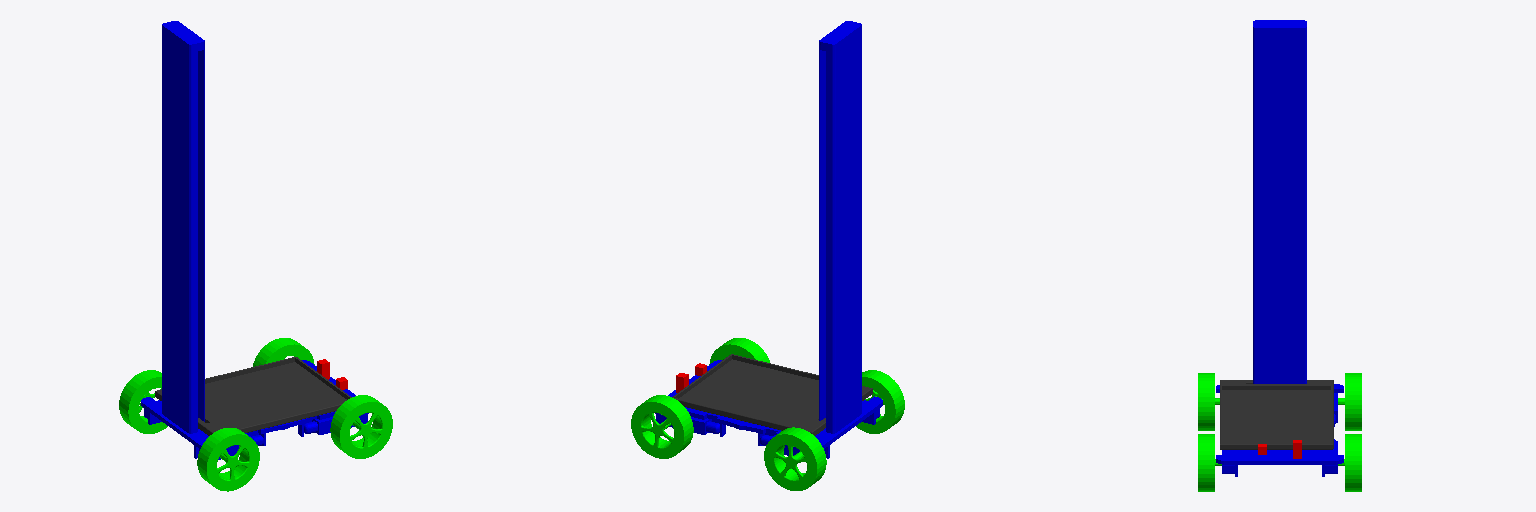
robot.urdf — autonomous_robot_3:
<?xml version="1.0" encoding="utf-8"?>

<robot
  name="autonomous_robot_3">
  
   <material name="red">
    <color rgba="1 0 0 1"/> 
  </material>
  <material name="green">
    <color rgba="0 1 0 1"/> 
  </material>
  <material name="blue">
    <color rgba="0 0 1 1"/> 
  </material>
  <material name="semi_transparent_yellow">
    <color rgba="1 1 0 0.5"/> 
  </material>
  
  <link
    name="base_link">
    <inertial>
      <origin
        xyz="-0.0626 0.00015231 0.15761"
        rpy="0 0 0" />
      <mass
        value="0.61968" />
      <inertia
        ixx="0.0079493"
        ixy="1.3324E-06"
        ixz="-3.4315E-06"
        iyy="0.0082099"
        iyz="2.6324E-08"
        izz="0.00088916" />
    </inertial>
    <visual>
      <origin
        xyz="0 0 0"
        rpy="0 0 0" />
      <geometry>
        <mesh
          filename="package://autonomous_robot_3/meshes/base_link.STL" />
      </geometry>
      <material name="blue">
        
      </material>
    </visual>
    <collision>
      <origin
        xyz="0 0 0"
        rpy="0 0 0" />
      <geometry>
        <mesh
          filename="package://autonomous_robot_3/meshes/base_link.STL" />
      </geometry>
    </collision>
  </link>
  <link
    name="linkrightfront">
    <inertial>
      <origin
        xyz="1.52E-08 0.0098402 1.296E-08"
        rpy="0 0 0" />
      <mass
        value="0.045564" />
      <inertia
        ixx="1.7813E-05"
        ixy="3.195E-12"
        ixz="9.3846E-12"
        iyy="3.2421E-05"
        iyz="2.7552E-12"
        izz="1.7813E-05" />
    </inertial>
    <visual>
      <origin
        xyz="0 0 0"
        rpy="0 0 0" />
      <geometry>
        <mesh
          filename="package://autonomous_robot_3/meshes/linkrightfront.STL" />
      </geometry>
      <material
        name="green">
        
      </material>
    </visual>
    <collision>
      <origin
        xyz="0 0 0"
        rpy="0 0 0" />
      <geometry>
        <mesh
          filename="package://autonomous_robot_3/meshes/linkrightfront.STL" />
      </geometry>
      <gazebo>
        <material>Gazebo/Black</material>
        <surface>
          <friction>
            <ode>
              <mu>3.0</mu>
              <mu2>3.0</mu2>
            </ode>
          </friction>
        </surface>
      </gazebo>
    </collision>
  </link>
  <joint
    name="jointrightfront"
    type="continuous">
    <origin
      xyz="0.082613 -0.093717 -0.0125"
      rpy="0 0 0" />
    <parent
      link="base_link" />
    <child
      link="linkrightfront" />
    <axis
      xyz="0 1 0" />
    <limit
      effort="1"
      velocity="1" />
  </joint>
  <link
    name="linkleftfront">
    <inertial>
      <origin
        xyz="-1.5699E-08 -0.0098402 -1.2351E-08"
        rpy="0 0 0" />
      <mass
        value="0.045564" />
      <inertia
        ixx="1.7813E-05"
        ixy="3.3302E-12"
        ixz="1.5447E-11"
        iyy="3.2421E-05"
        iyz="2.5901E-12"
        izz="1.7813E-05" />
    </inertial>
    <visual>
      <origin
        xyz="0 0 0"
        rpy="0 0 0" />
      <geometry>
        <mesh
          filename="package://autonomous_robot_3/meshes/linkleftfront.STL" />
      </geometry>
      <material
        name="green">
        
      </material>
    </visual>
    <collision>
      <origin
        xyz="0 0 0"
        rpy="0 0 0" />
      <geometry>
        <mesh
          filename="package://autonomous_robot_3/meshes/linkleftfront.STL" />
      </geometry>
      <gazebo>
        <material>Gazebo/Black</material>
        <surface>
          <friction>
            <ode>
              <mu>3.0</mu>
              <mu2>3.0</mu2>
            </ode>
          </friction>
        </surface>
      </gazebo>
    </collision>
  </link>
  <joint
    name="jointleftfront"
    type="continuous">
    <origin
      xyz="0.0826127763161896 0.0940910896506304 -0.0125"
      rpy="0 0 0" />
    <parent
      link="base_link" />
    <child
      link="linkleftfront" />
    <axis
      xyz="0 -1 0" />
    <limit
      effort="1"
      velocity="1" />
  </joint>
  <link
    name="linkleftback">
    <inertial>
      <origin
        xyz="-1.9697E-08 -0.0098402 3.3224E-09"
        rpy="0 0 0" />
      <mass
        value="0.045564" />
      <inertia
        ixx="1.7813E-05"
        ixy="4.1561E-12"
        ixz="1.1056E-11"
        iyy="3.2421E-05"
        iyz="-7.249E-13"
        izz="1.7813E-05" />
    </inertial>
    <visual>
      <origin
        xyz="0 0 0"
        rpy="0 0 0" />
      <geometry>
        <mesh
          filename="package://autonomous_robot_3/meshes/linkleftback.STL" />
      </geometry>
      <material
        name="green">
        
      </material>
    </visual>
    <collision>
      <origin
        xyz="0 0 0"
        rpy="0 0 0" />
      <geometry>
        <mesh
          filename="package://autonomous_robot_3/meshes/linkleftback.STL" />
      </geometry>
      <gazebo>
        <material>Gazebo/Black</material>
        <surface>
          <friction>
            <ode>
              <mu>3.0</mu>
              <mu2>3.0</mu2>
            </ode>
          </friction>
        </surface>
      </gazebo>
    </collision>
  </link>
  <joint
    name="jointleftback"
    type="continuous">
    <origin
      xyz="-0.0819456955624622 0.0940910896506303 -0.0125"
      rpy="0 0 0" />
    <parent
      link="base_link" />
    <child
      link="linkleftback" />
    <axis
      xyz="0 -1 0" />
    <limit
      effort="1"
      velocity="1" />
  </joint>
  <link
    name="linkrightback">
    <inertial>
      <origin
        xyz="1.6867E-08 0.0098402 -1.0701E-08"
        rpy="0 0 0" />
      <mass
        value="0.045564" />
      <inertia
        ixx="1.7813E-05"
        ixy="3.575E-12"
        ixz="-1.7667E-11"
        iyy="3.2421E-05"
        iyz="-2.2402E-12"
        izz="1.7813E-05" />
    </inertial>
    <visual>
      <origin
        xyz="0 0 0"
        rpy="0 0 0" />
      <geometry>
        <mesh
          filename="package://autonomous_robot_3/meshes/linkrightback.STL" />
      </geometry>
      <material
        name="green">
        
      </material>
    </visual>
    <collision>
      <origin
        xyz="0 0 0"
        rpy="0 0 0" />
      <geometry>
        <mesh
          filename="package://autonomous_robot_3/meshes/linkrightback.STL" />
      </geometry>
      <gazebo>
        <material>Gazebo/Black</material>
        <surface>
          <friction>
            <ode>
              <mu>3.0</mu>
              <mu2>3.0</mu2>
            </ode>
          </friction>
        </surface>
      </gazebo>
    </collision>
  </link>
  <joint
    name="jointrightback"
    type="continuous">
    <origin
      xyz="-0.0819456955624622 -0.0937168736180515 -0.0125000000000001"
      rpy="0 0 0" />
    <parent
      link="base_link" />
    <child
      link="linkrightback" />
    <axis
      xyz="0 1 0" />
    <limit
      effort="1"
      velocity="1" />
  </joint>
  <link
    name="link_tray">
    <inertial>
      <origin
        xyz="-0.01397 -4.2432E-07 -0.00011074"
        rpy="0 0 0" />
      <mass
        value="0.059654" />
      <inertia
        ixx="9.9826E-05"
        ixy="7.4413E-10"
        ixz="1.3325E-06"
        iyy="0.00018415"
        iyz="-3.9583E-11"
        izz="0.00028361" />
    </inertial>
    <visual>
      <origin
        xyz="0 0 0"
        rpy="0 0 0" />
      <geometry>
        <mesh
          filename="package://autonomous_robot_3/meshes/link_tray.STL" />
      </geometry>
      <material
        name="">
        <color
          rgba="0.25098 0.25098 0.25098 1" />
      </material>
    </visual>
    <collision>
      <origin
        xyz="0 0 0"
        rpy="0 0 0" />
      <geometry>
        <mesh
          filename="package://autonomous_robot_3/meshes/link_tray.STL" />
      </geometry>
    </collision>
  </link>
  <joint
    name="joint_tray"
    type="prismatic">
    <origin
      xyz="0.0051786 -0.0035764 0.007"
      rpy="0 0 0" />
    <parent
      link="base_link" />
    <child
      link="link_tray" />
    <axis
      xyz="0 0 1" />
    <limit
      lower="0"
      upper="0.4"
      effort="1"
      velocity="1" />
  </joint>
  
  <!--<gazebo>
    <plugin name="skid_steer_drive_controller" filename="libgazebo_ros_skid_steer_drive.so">
      <updateRate>100.0</updateRate>
      <robotNamespace>/</robotNamespace>
      <leftFrontJoint>jointleftfront</leftFrontJoint>
      <rightFrontJoint>jointrightfront</rightFrontJoint>
      <leftRearJoint>jointleftback</leftRearJoint>
      <rightRearJoint>jointrightback</rightRearJoint>
      <wheelSeparation>1.5</wheelSeparation>
      <wheelDiameter>0.25</wheelDiameter>
      <robotBaseFrame>base_link</robotBaseFrame>
      <torque>15</torque>
      <commandTopic>cmd_vel</commandTopic>
      <commandTopic>cmd_vel</commandTopic>
      <odometryTopic>odom</odometryTopic>
      <odometryFrame>odom</odometryFrame>
      <odometryRate>20.0</odometryRate>
      <covariance_x>0.0001</covariance_x>
      <covariance_y>0.0001</covariance_y>
      <covariance_yaw>0.01</covariance_yaw>
    </plugin>
  </gazebo>-->


  <gazebo>
    <plugin name="omni_steering" filename="libgazebo_ros_planar_move.so">
      <commandTopic>cmd_vel</commandTopic>
      <odometryTopic>odom</odometryTopic>
      <odometryFrame>odom</odometryFrame>
      <odometryRate>20.0</odometryRate>	
      <robotBaseFrame>base_link</robotBaseFrame>
    </plugin>
    <gazebo>
  <plugin name="gazebo_ros_control" filename="libgazebo_ros_control.so">
    <robotNamespace>/robot</robotNamespace>
  </plugin>
</gazebo>

  </gazebo>
  
    
  <!--<gazebo>
  <plugin name="differential_drive_controller_1" filename="libgazebo_ros_diff_drive.so">

    <updateRate>100</updateRate>
    <leftFrontJoint>jointleftfront</leftFrontJoint>
      <rightFrontJoint>jointrightfront</rightFrontJoint>
    
      <wheelSeparation>1.5</wheelSeparation>
      <wheelDiameter>0.25</wheelDiameter>
    <wheelTorque>20</wheelTorque>
    <commandTopic>cmd_vel</commandTopic>
    <odometryTopic>odom</odometryTopic>
    <odometryFrame>odom</odometryFrame>
    <robotBaseFrame>base_link</robotBaseFrame>
    <odometrySource>1</odometrySource>
    <publishWheelTF>false</publishWheelTF>
    <publishOdom>true</publishOdom>
    <publishWheelJointState>true</publishWheelJointState>
    <legacyMode>false</legacyMode>
  </plugin>
</gazebo>

  <gazebo>
  <plugin name="differential_drive_controller_2" filename="libgazebo_ros_diff_drive.so">

    <updateRate>100</updateRate>
  
      <leftRearJoint>jointleftback</leftRearJoint>
      <rightRearJoint>jointrightback</rightRearJoint>
      <wheelSeparation>1.5</wheelSeparation>
      <wheelDiameter>0.25</wheelDiameter>
    <wheelTorque>20</wheelTorque>
    <commandTopic>cmd_vel</commandTopic>
    <odometryTopic>odom</odometryTopic>
    <odometryFrame>odom</odometryFrame>
    <robotBaseFrame>base_link</robotBaseFrame>
    <odometrySource>1</odometrySource>
    <publishWheelTF>false</publishWheelTF>
    <publishOdom>true</publishOdom>
    <publishWheelJointState>true</publishWheelJointState>
    <legacyMode>false</legacyMode>
  </plugin>
</gazebo>-->

 
  <joint name="camera_joint" type="fixed">
    <axis xyz="0 1 0" />
    <origin xyz="0.095 0.02 0.01" rpy="0 0 0"/>
    <parent link="base_link"/>
    <child link="camera_link"/>
  </joint>

  <!-- Camera -->
  <link name="camera_link">
    <collision>
      <origin xyz="0 0 0" rpy="0 0 0"/>
      <geometry>
    <box size="0.01 0.01 0.02"/>
      </geometry>
    </collision>

    <visual>
      <origin xyz="0 0 0" rpy="0 0 0"/>
      <geometry>
    <box size="0.01 0.01 0.02"/>
      </geometry>
      <material name="red">
        <color rgba="1.0 0.0 0.0 1.0"/>
      </material>
    </visual>

    <inertial>
      <mass value="1e-5" />
      <origin xyz="0 0 0" rpy="0 0 0"/>
      <inertia ixx="1e-6" ixy="0" ixz="0" iyy="1e-6" iyz="0" izz="1e-6" />
    </inertial>
  </link>
  <!-- camera -->
  <gazebo reference="camera_link">
    <sensor type="camera" name="camera1">
      <update_rate>30.0</update_rate>
      <camera name="head">
        <horizontal_fov>1.3962634</horizontal_fov>
        <image>
          <width>800</width>
          <height>800</height>
          <format>R8G8B8</format>
        </image>
        <clip>
          <near>0.02</near>
          <far>300</far>
        </clip>
        <noise>
          <type>gaussian</type>
          <!-- Noise is sampled independently per pixel on each frame.
               That pixel's noise value is added to each of its color
               channels, which at that point lie in the range [0,1]. -->
          <mean>0.0</mean>
          <stddev>0.007</stddev>
        </noise>
      </camera>
      <plugin name="camera_controller" filename="libgazebo_ros_camera.so">
        <alwaysOn>true</alwaysOn>
        <updateRate>0.0</updateRate>
        <cameraName>rrbot/camera1</cameraName>
        <imageTopicName>image_raw</imageTopicName>
        <cameraInfoTopicName>camera_info</cameraInfoTopicName>
        <frameName>camera_link</frameName>
        <hackBaseline>0.07</hackBaseline>
        <distortionK1>0.0</distortionK1>
        <distortionK2>0.0</distortionK2>
        <distortionK3>0.0</distortionK3>
        <distortionT1>0.0</distortionT1>
        <distortionT2>0.0</distortionT2>
      </plugin>
    </sensor>
  </gazebo>
  
   <joint name="hokuyo_joint" type="fixed">
    <axis xyz="0 1 0" />
    <origin xyz="0.095 -0.02 0.01" rpy="0 0 0"/>
    <parent link="base_link"/>
    <child link="hokuyo_link"/>
  </joint>

  <!-- Hokuyo Laser -->
  <link name="hokuyo_link">
    <collision>
      <origin xyz="0 0 0" rpy="0 0 0"/>
      <geometry>
    <box size="0.01 0.01 0.01"/>
      </geometry>
    </collision>

    <visual>
      <origin xyz="0 0 0" rpy="0 0 0"/>
      <geometry>
        <box size="0.01 0.01 0.01"/>
      </geometry>
      <material name="red">
        <color rgba="1.0 0.0 0.0 1.0"/>
      </material>
    </visual>

    <inertial>
      <mass value="1e-5" />
      <origin xyz="0 0 0" rpy="0 0 0"/>
      <inertia ixx="1e-6" ixy="0" ixz="0" iyy="1e-6" iyz="0" izz="1e-6" />
    </inertial>
  </link>
  <!-- hokuyo -->
  <gazebo reference="hokuyo_link">
    <sensor type="ray" name="head_hokuyo_sensor">
      <pose>0 0 0 0 0 0</pose>
      <visualize>true</visualize>
      <update_rate>20</update_rate>
      <ray>
        <scan>
          <horizontal>
            <samples>720</samples>
            <resolution>1</resolution>
            <min_angle>-1.57</min_angle>
            <max_angle>1.57</max_angle>
          </horizontal>
        </scan>
        <range>
          <min>0.4</min>
          <max>7.0</max>
          <resolution>0.01</resolution>
        </range>
        <noise>
          <type>gaussian</type>
          <!-- Noise parameters based on published spec for Hokuyo laser
               achieving "+-30mm" accuracy at range < 10m.  A mean of 0.0m and
               stddev of 0.01m will put 99.7% of samples within 0.03m of the true
               reading. -->
          <mean>0.0</mean>
          <stddev>0.01</stddev>
        </noise>
      </ray>
      <plugin name="gazebo_ros_head_hokuyo_controller" filename="libgazebo_ros_laser.so">
        <topicName>/scan</topicName>
        <frameName>hokuyo_link</frameName>
      </plugin>
    </sensor>
  </gazebo>
</robot>

--- What the picture shows (computed from the rendered views, not written in the file) ---
3 views of the same robot in one strip: view 1: azimuth 30°, elevation 25°; view 2: azimuth 150°, elevation 25°; view 3: azimuth 270°, elevation 25° (orthographic).
Robot: autonomous_robot_3 — 8 links, 7 joints (4 continuous, 1 prismatic, 2 fixed); root link base_link; default pose: all joints at 0.
Links seen in each view (by area): view 1: base_link, link_tray, linkrightfront, linkrightback, linkleftback, linkleftfront; view 2: base_link, link_tray, linkleftback, linkleftfront, linkrightback, linkrightfront; view 3: base_link, link_tray, linkleftback, linkrightback, linkrightfront, linkleftfront.
Boxes of the visible links, <box> form: base_link: <box>141,21,368,459</box>; link_tray: <box>155,357,351,435</box>; linkrightfront: <box>330,395,392,458</box>; linkrightback: <box>197,428,259,491</box>; linkleftback: <box>119,370,167,433</box>; linkleftfront: <box>253,338,314,366</box>; base_link: <box>655,21,882,458</box>; link_tray: <box>672,354,872,435</box>; linkleftback: <box>764,427,826,490</box>; linkleftfront: <box>631,395,693,458</box>; linkrightback: <box>856,370,904,433</box>; linkrightfront: <box>709,338,769,364</box>; base_link: <box>1216,20,1343,476</box>; link_tray: <box>1220,380,1333,449</box>; linkleftback: <box>1338,373,1361,430</box>; linkrightback: <box>1198,373,1219,430</box>; linkrightfront: <box>1198,434,1221,491</box>; linkleftfront: <box>1338,434,1361,491</box>.
Size in the robot's own frame: 0.2306 by 0.1878 by 0.5055 metres.
6 mesh visuals loaded from 6 distinct referenced files (6 binary STL).
